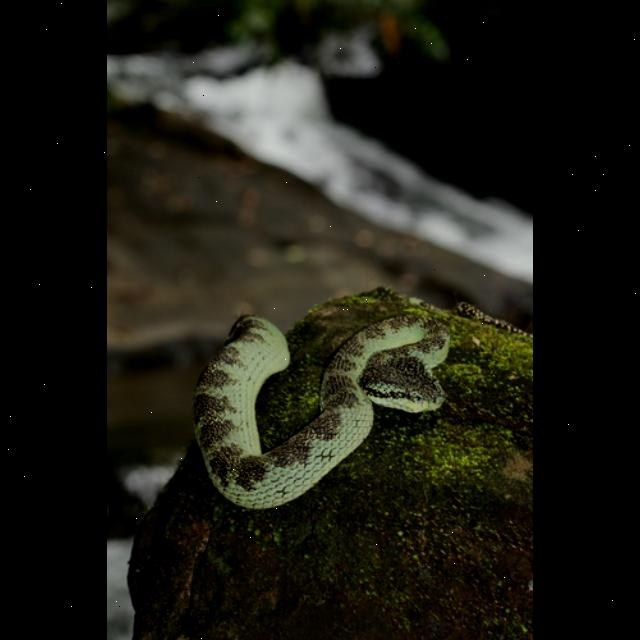snake: (177, 303, 467, 515)
